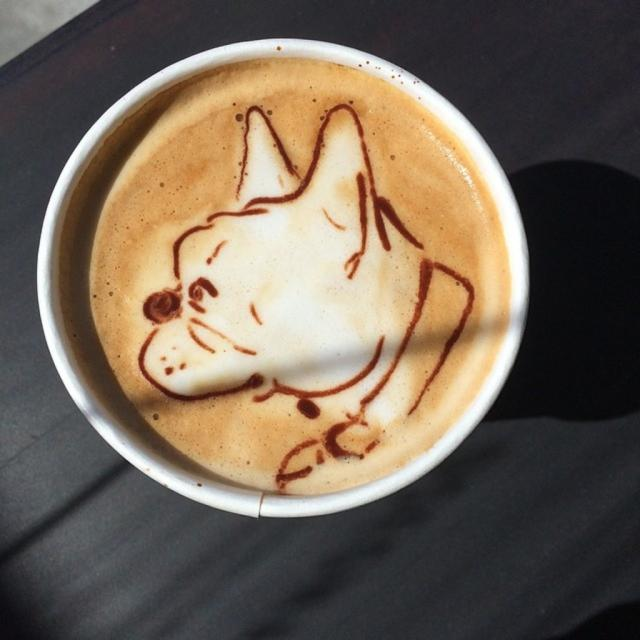latte: (32, 39, 532, 521)
